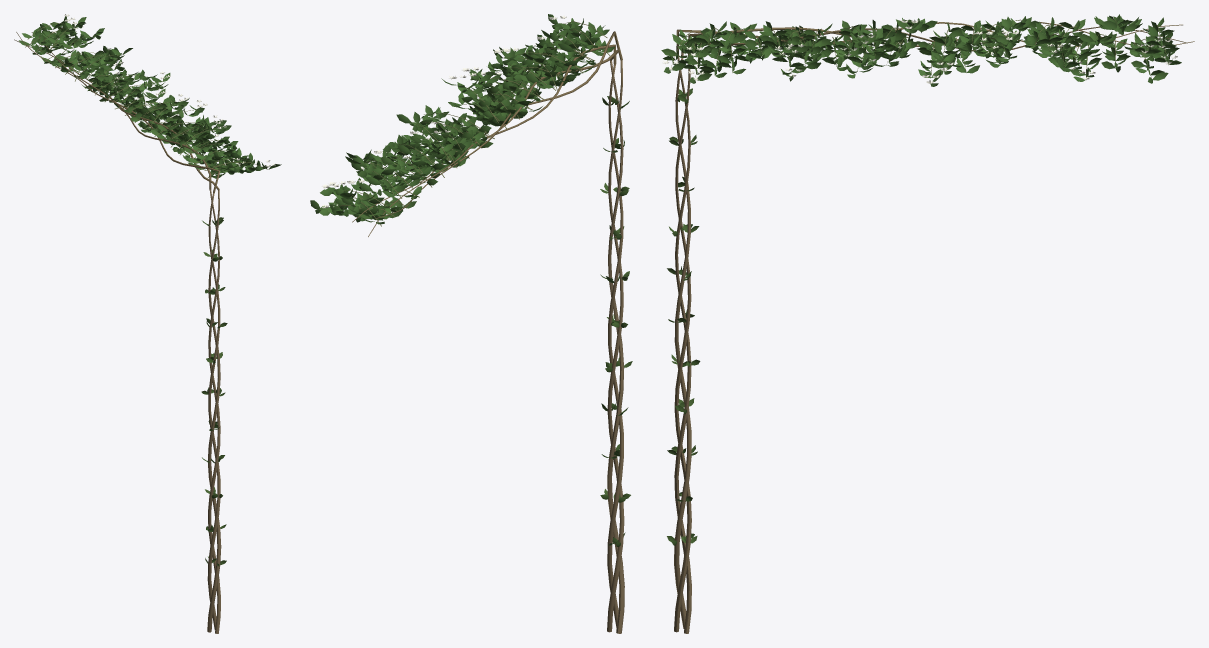
Rendered from trachelospermum-jasminoides-light.glb.
3 views of the same model, side by side, from view 1: azimuth 30°, elevation 25°; view 2: azimuth 150°, elevation 25°; view 3: azimuth 270°, elevation 25° (orthographic). The views are drawn at different scales.
Visible parts, largest first — view 1: Jasmine glossy opposite leaves, Jasmine supported woody stems, Jasmine five-petal ivory flowers; view 2: Jasmine glossy opposite leaves, Jasmine supported woody stems, Jasmine five-petal ivory flowers; view 3: Jasmine glossy opposite leaves, Jasmine supported woody stems, Jasmine five-petal ivory flowers.
Boxes of the visible parts, <box> form: Jasmine glossy opposite leaves: <box>19,16,281,566</box>; Jasmine supported woody stems: <box>14,23,266,633</box>; Jasmine five-petal ivory flowers: <box>61,14,275,167</box>; Jasmine glossy opposite leaves: <box>310,14,632,546</box>; Jasmine supported woody stems: <box>332,21,624,633</box>; Jasmine five-petal ivory flowers: <box>321,15,581,208</box>; Jasmine glossy opposite leaves: <box>661,14,1181,545</box>; Jasmine supported woody stems: <box>671,19,1194,633</box>; Jasmine five-petal ivory flowers: <box>663,19,1177,83</box>.
Size of the model in its own units: 0.4414 by 2.86 by 2.18.
